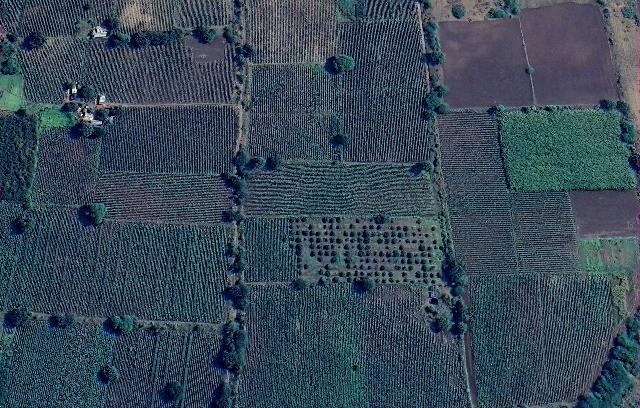EmptyFarms: (521, 4, 621, 105), (440, 17, 534, 109), (568, 189, 640, 239)
Farms: (237, 282, 468, 408), (1, 206, 234, 324), (470, 274, 615, 407), (14, 29, 235, 105), (239, 213, 450, 281), (339, 19, 438, 162), (436, 112, 520, 277), (499, 108, 638, 191), (2, 317, 121, 408), (106, 324, 230, 408), (243, 163, 439, 214), (100, 105, 238, 175), (249, 59, 343, 159), (95, 171, 238, 224), (30, 107, 105, 203), (509, 191, 581, 273), (246, 0, 338, 62)
